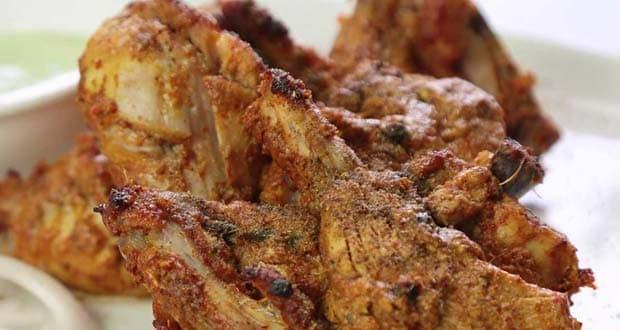chicken: (14, 0, 598, 330)
